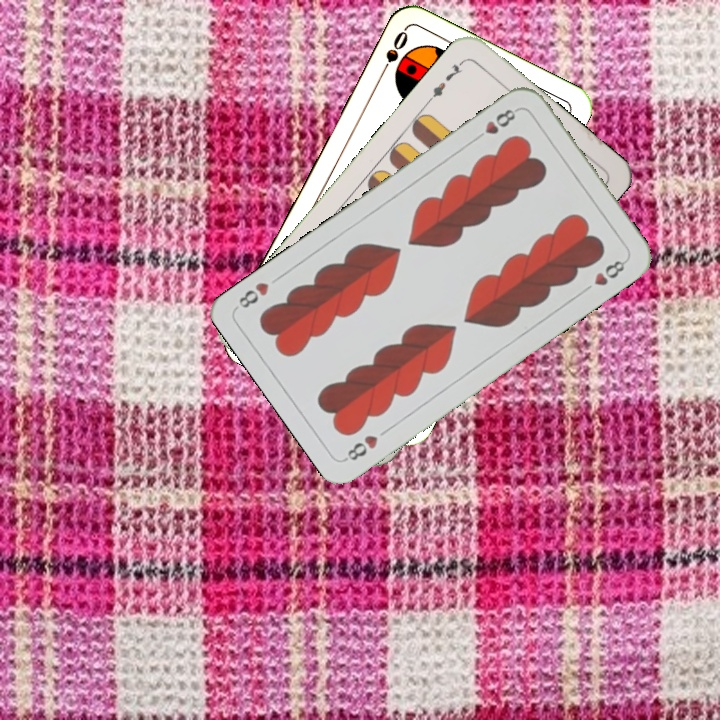E7: (424, 56, 467, 105)
H8: (470, 104, 521, 144), (341, 431, 381, 464)
SO: (375, 26, 411, 81)
